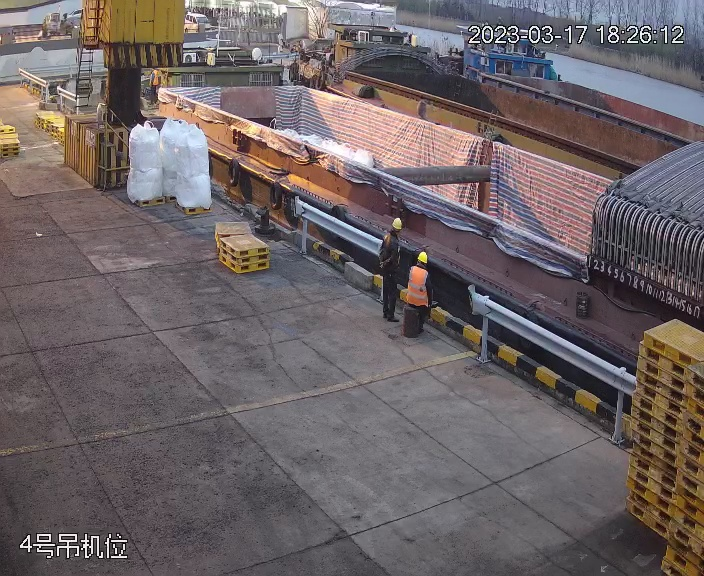head: (406, 251, 432, 282), (380, 217, 402, 246)
helmet: (415, 250, 430, 264), (392, 217, 402, 231)
people: (379, 217, 403, 323), (405, 248, 434, 332)
